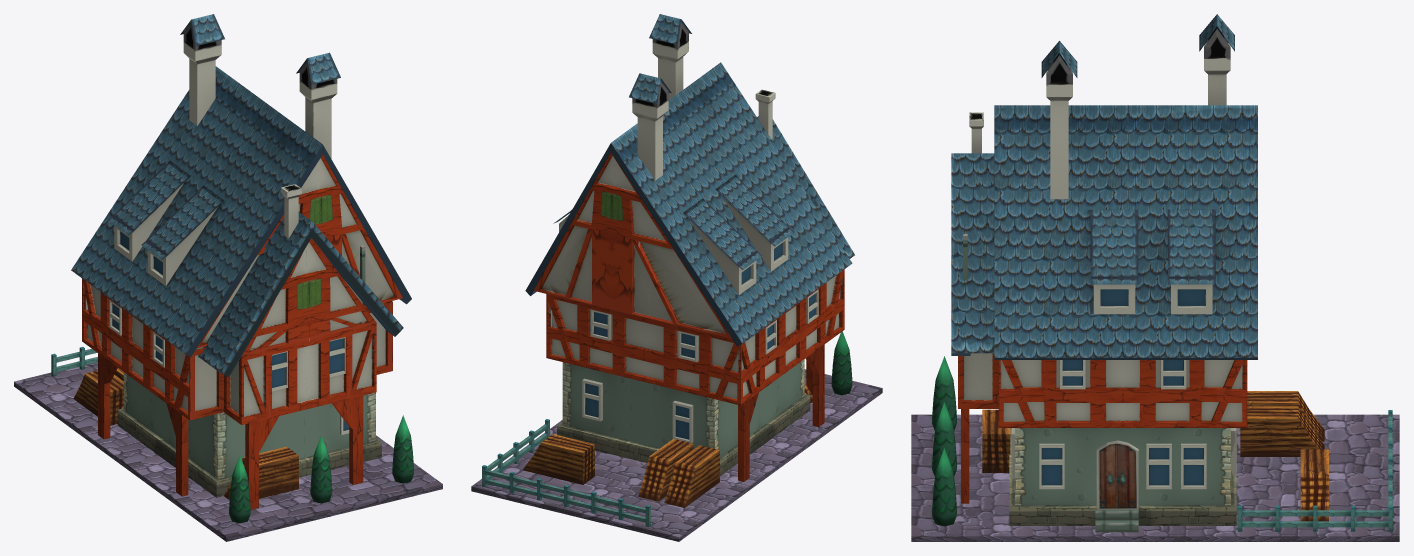
3 views of the same model, side by side, from view 1: azimuth 30°, elevation 25°; view 2: azimuth 150°, elevation 25°; view 3: azimuth 270°, elevation 25° (orthographic). The views are drawn at different scales.
Visible parts, largest first — view 1: Haus4; view 2: Haus4; view 3: Haus4.
Part boxes in pixels (bbox=[...]): Haus4: bbox=[14, 14, 442, 541]; Haus4: bbox=[471, 14, 882, 541]; Haus4: bbox=[911, 14, 1399, 541].
Bounding box in the file's own units: 17.69 × 29.95 × 28.73.
Materials: 2 (2 with a texture image).
